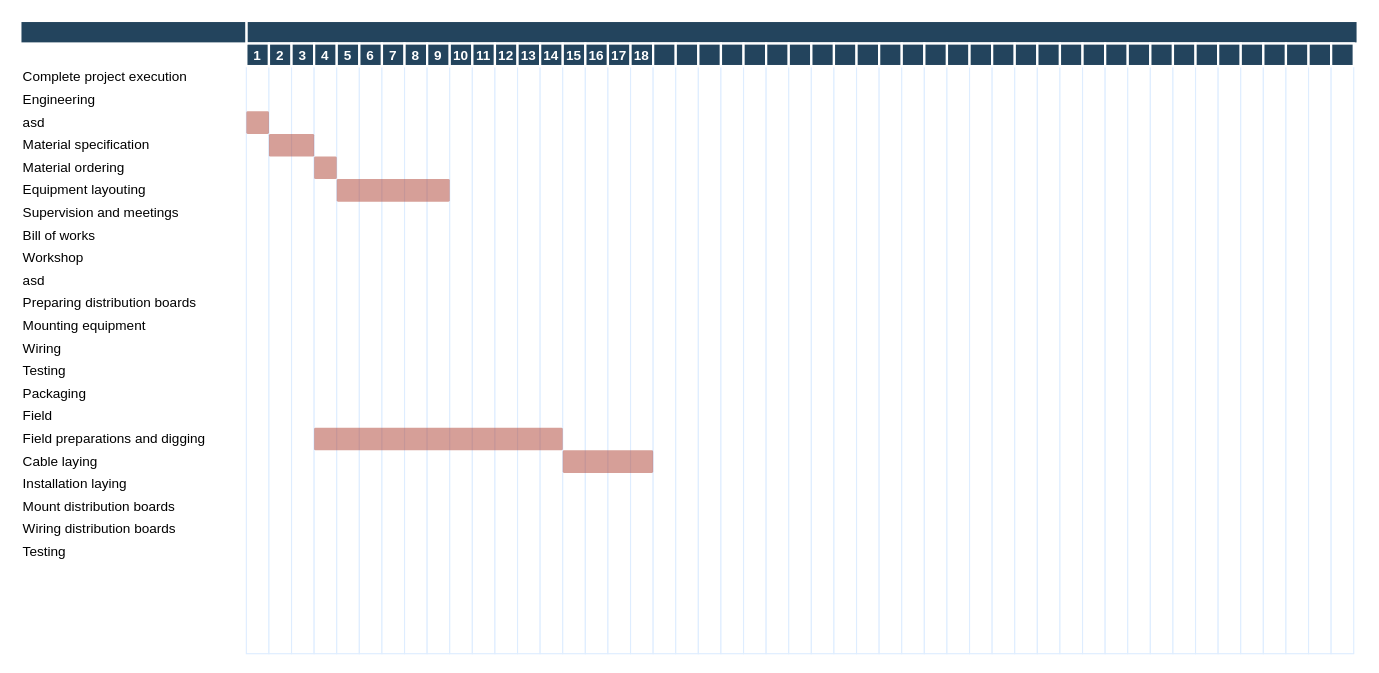
Some shapes in this 1379 by 673 pixel diagram are drawn without their labels. Here are the shapes that lost their labels. From the top down, the centre of each, then its label:
the point at 133,31: Task
the point at 801,31: Months
